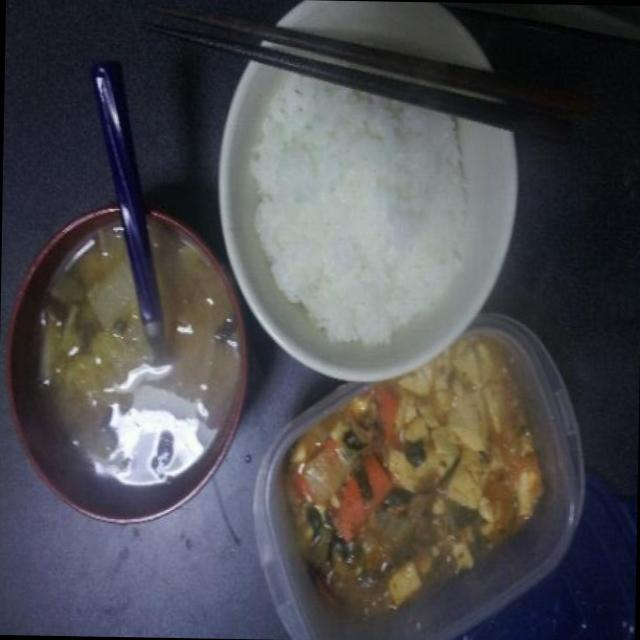Rice: (255, 78, 470, 356)
